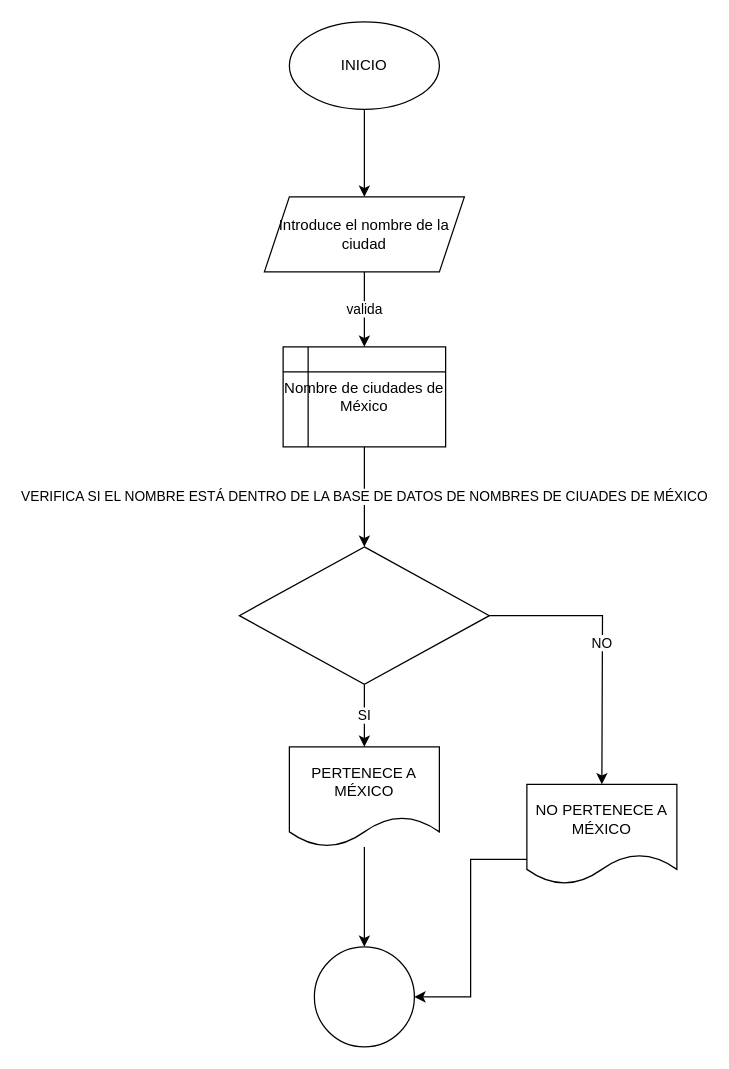
Some shapes in this 729 by 1069 pixel diagram are drawn without their labels. The shapes that lost their labels are listed below. From the top down, each one's centre as x and y in pixels, then its label:
At pixel 363 615: "El nombre de la ciudad pertenece a México?".
At pixel 363 996: "FIN".
